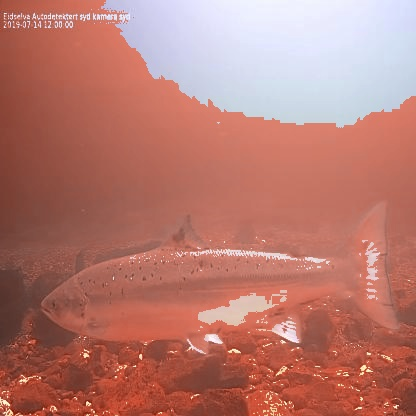salmon: (40, 198, 400, 358)
